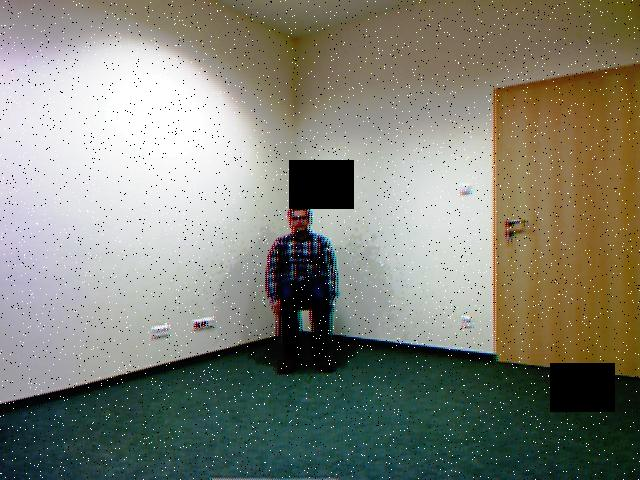sitting: (264, 194, 344, 380)
